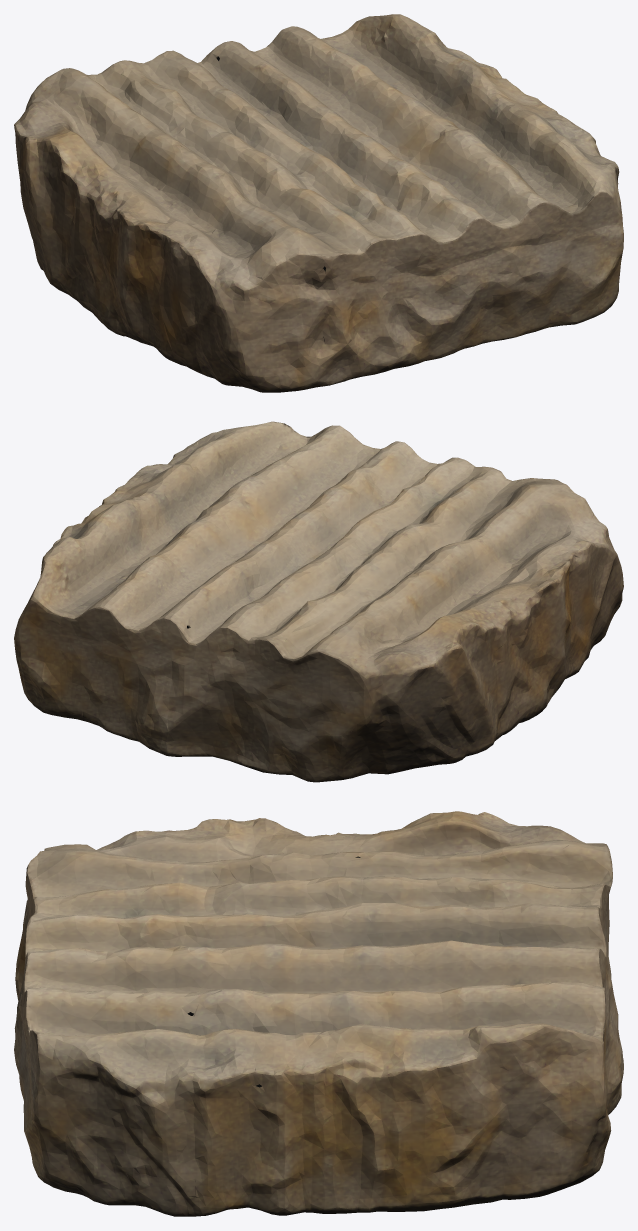
3 views of the same model, one above another, from view 1: azimuth 30°, elevation 25°; view 2: azimuth 150°, elevation 25°; view 3: azimuth 270°, elevation 25° (orthographic). The views are drawn at different scales.
Parts seen in each view (by area): view 1: world; view 2: world; view 3: world.
Boxes of the visible parts, left/top/right/bottom form: world: left=14, top=14, right=623, bottom=392; world: left=14, top=421, right=623, bottom=782; world: left=14, top=811, right=623, bottom=1216.
Size of the model in its own units: 0.9696 by 0.3027 by 0.9635.
1 material, 1 textured.
